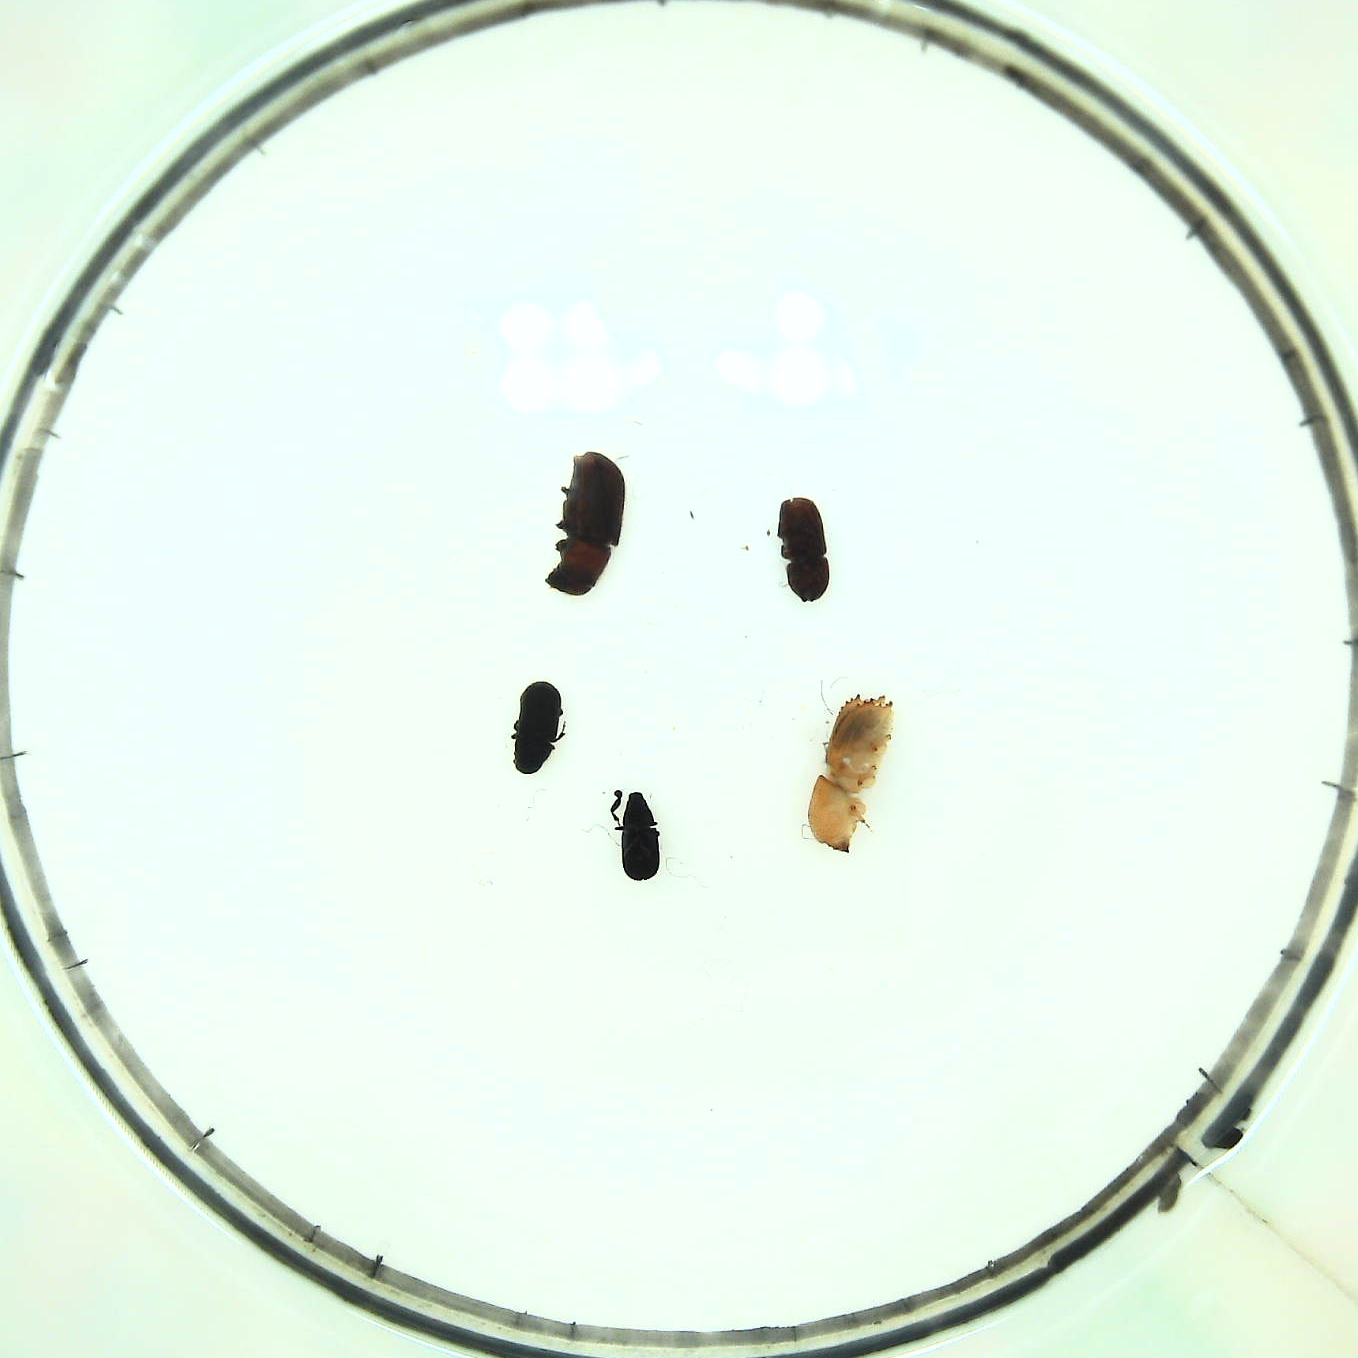Boerner: (805, 691, 897, 856)
Leconte: (546, 449, 621, 597)
Linnaeus: (775, 494, 837, 606)
armandi: (512, 681, 567, 771)
coleoptera: (611, 788, 667, 883)
